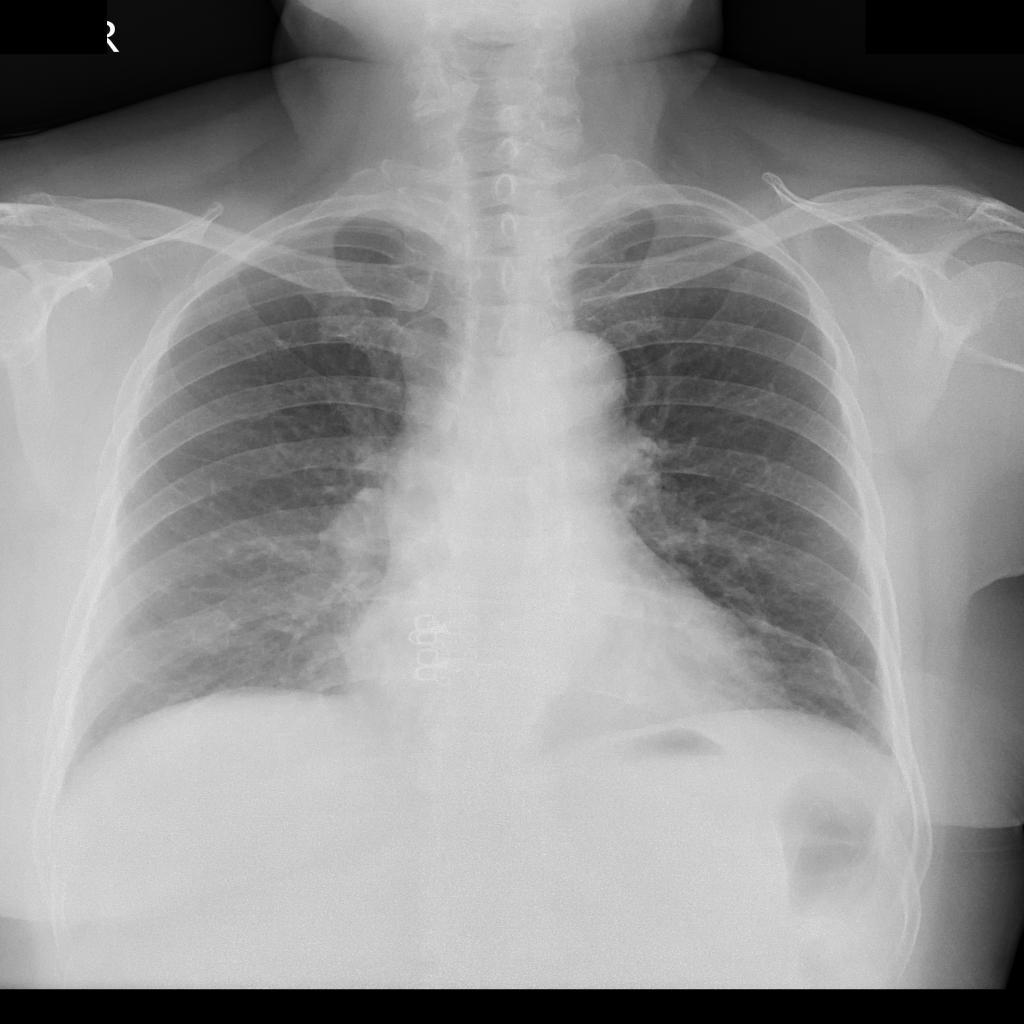Nodule: (190, 608, 234, 653)
